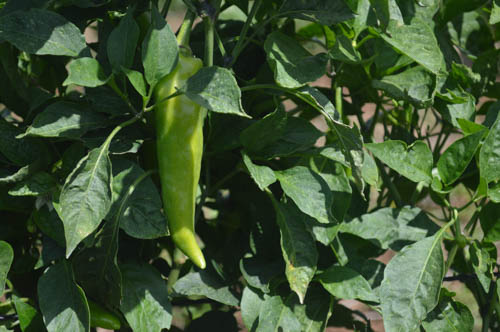ChiliPepper: (157, 56, 205, 269)
